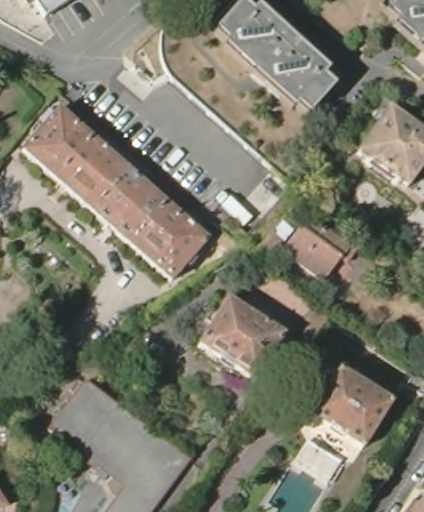pool: (265, 473, 324, 512)
